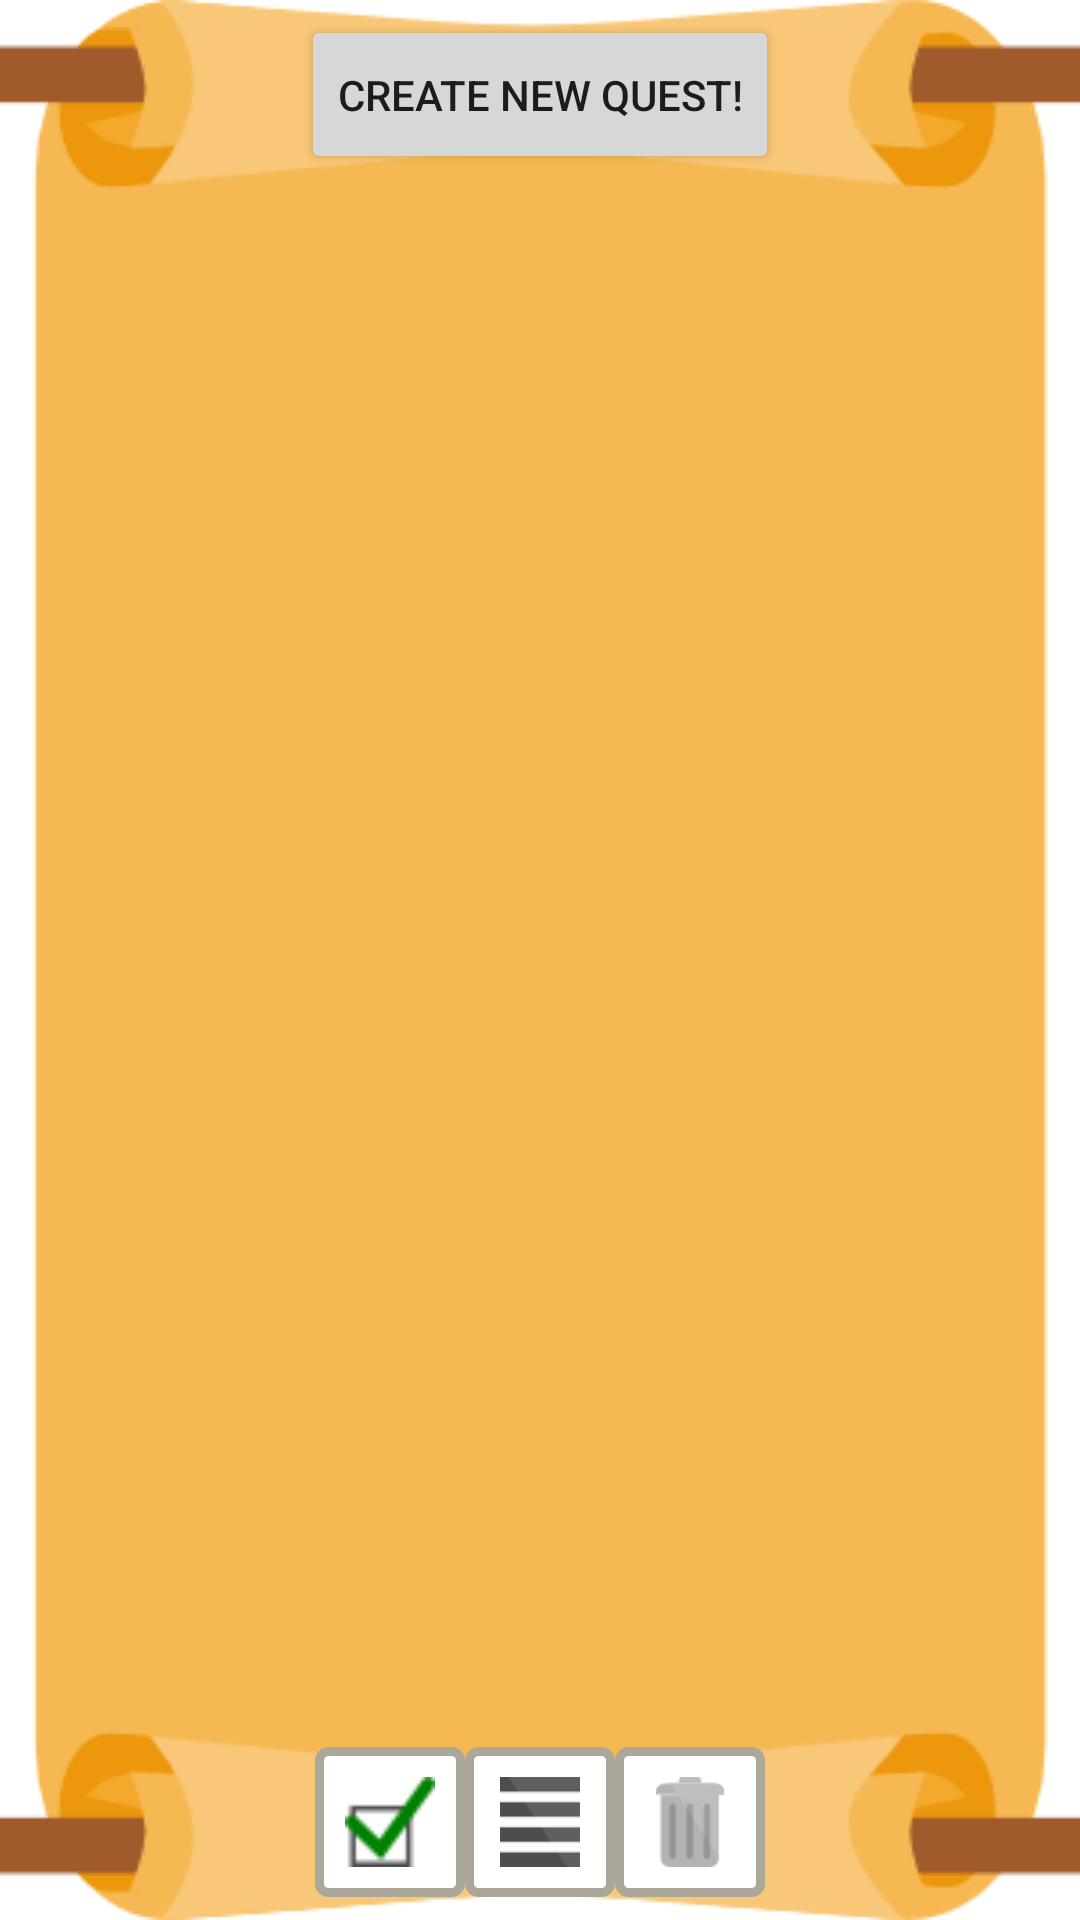

Named icons in this screenshot (1080px x 1920px) and their centers, point (x, y):
complete: point (390, 1822)
delete: point (690, 1822)
description: point (540, 1822)
